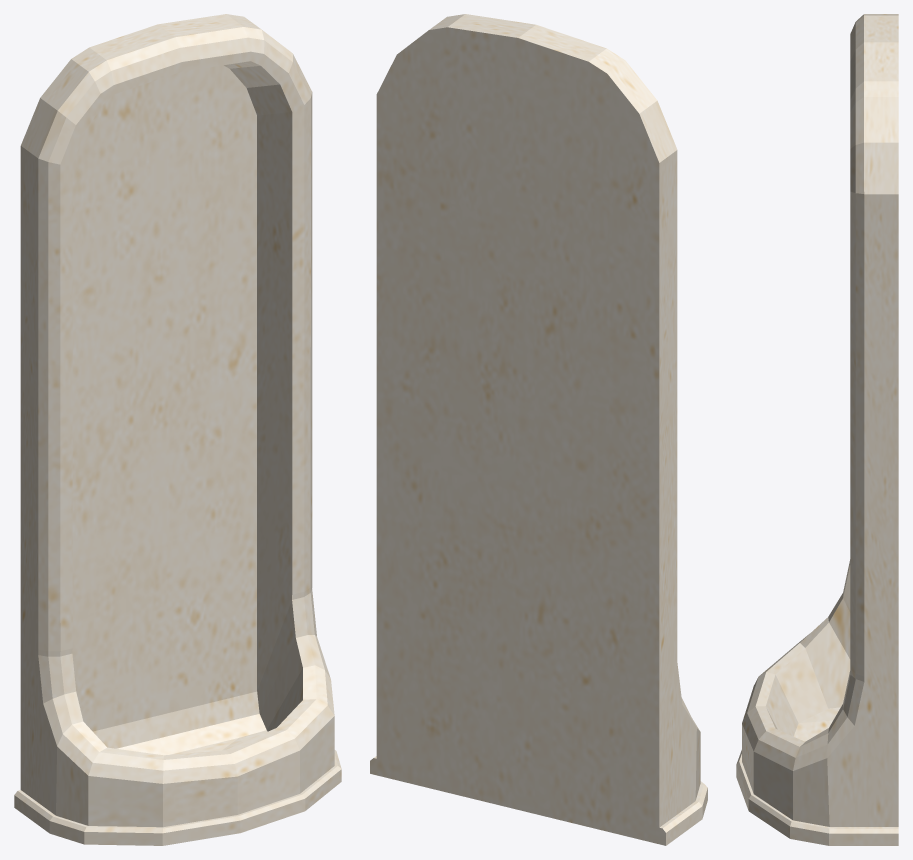
File: 장애물_소변기.fbx
3 views of the same model, side by side, from view 1: azimuth 30°, elevation 25°; view 2: azimuth 150°, elevation 25°; view 3: azimuth 270°, elevation 25° (orthographic). The views are drawn at different scales.
Parts seen in each view (by area): view 1: 소변기; view 2: 소변기; view 3: 소변기.
Part boxes in pixels (x1,y1,x2,y2): 소변기: (14,14,341,845); 소변기: (370,14,707,845); 소변기: (736,14,898,845).
Size of the model in its own units: 40.08 by 99.93 by 20.01.
